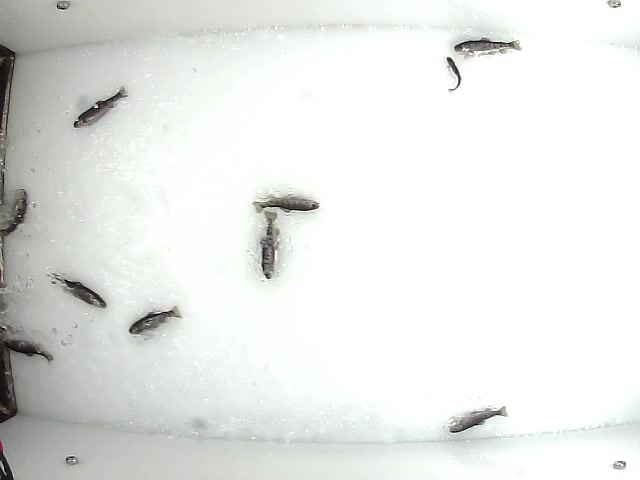fish: (71, 84, 130, 127), (47, 272, 108, 310), (445, 401, 509, 435), (125, 303, 184, 335), (452, 36, 527, 61), (1, 335, 58, 365), (256, 210, 278, 281), (1, 184, 27, 241), (251, 192, 321, 213), (446, 52, 463, 93)
